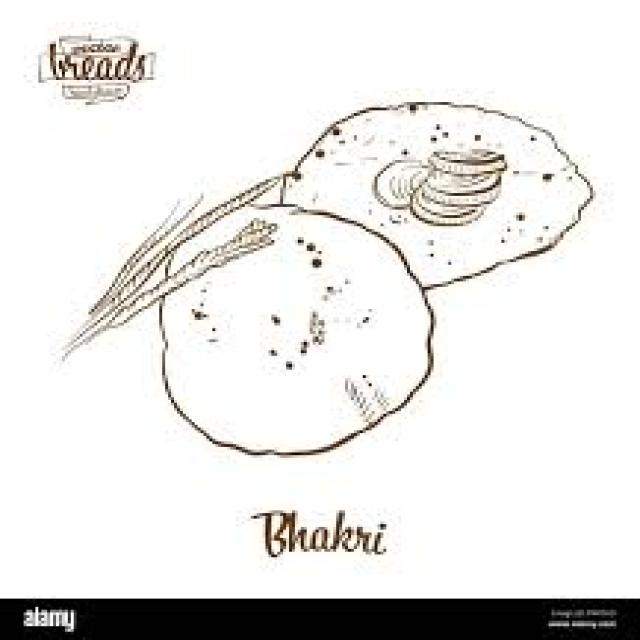RICE BHAKRI: (162, 210, 428, 447)
ROTI: (280, 102, 590, 281)
